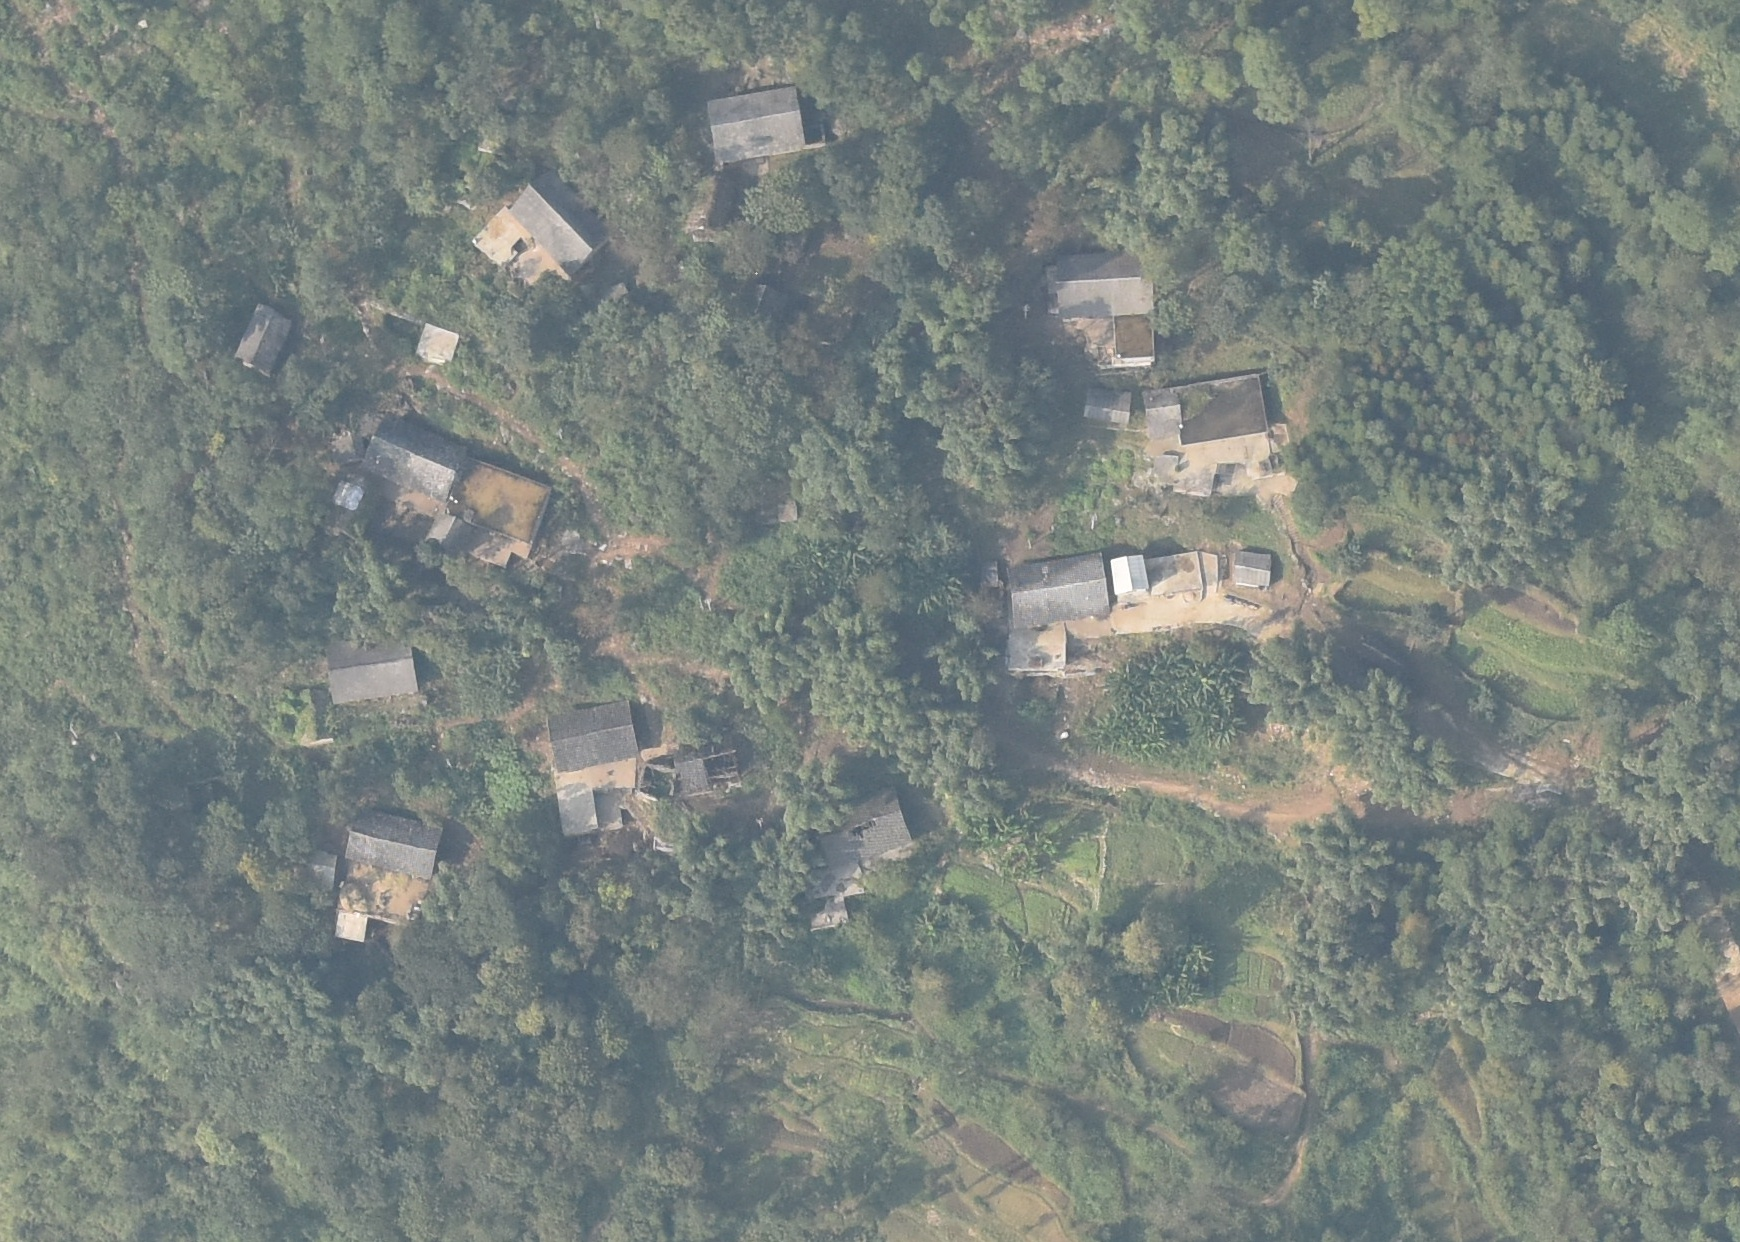building: (447, 457, 555, 561), (511, 169, 613, 276), (1143, 368, 1280, 445), (356, 407, 464, 497), (816, 784, 914, 880), (996, 552, 1117, 624), (536, 698, 648, 774), (1052, 243, 1168, 315), (707, 83, 810, 163), (339, 806, 447, 879), (318, 634, 426, 704), (232, 296, 293, 372), (1000, 620, 1070, 679), (1143, 551, 1220, 604), (275, 839, 339, 899), (547, 786, 609, 833), (744, 277, 787, 336), (1229, 550, 1285, 595), (1113, 313, 1161, 364), (412, 320, 464, 366), (744, 491, 806, 527), (1106, 552, 1151, 601), (1088, 386, 1133, 423), (331, 906, 375, 941)
